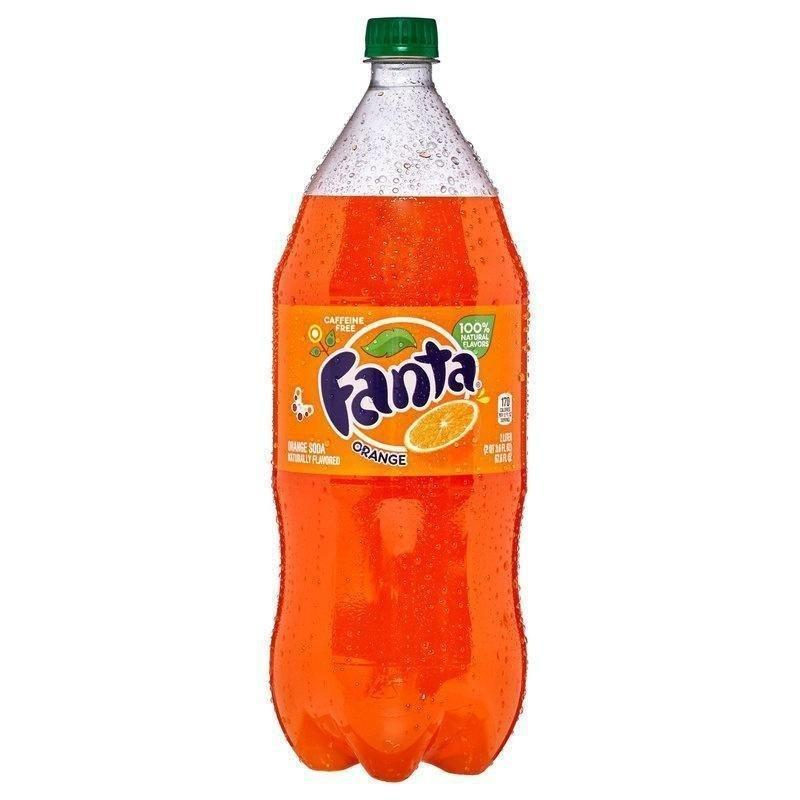bottle-plastic: (260, 5, 536, 794)
